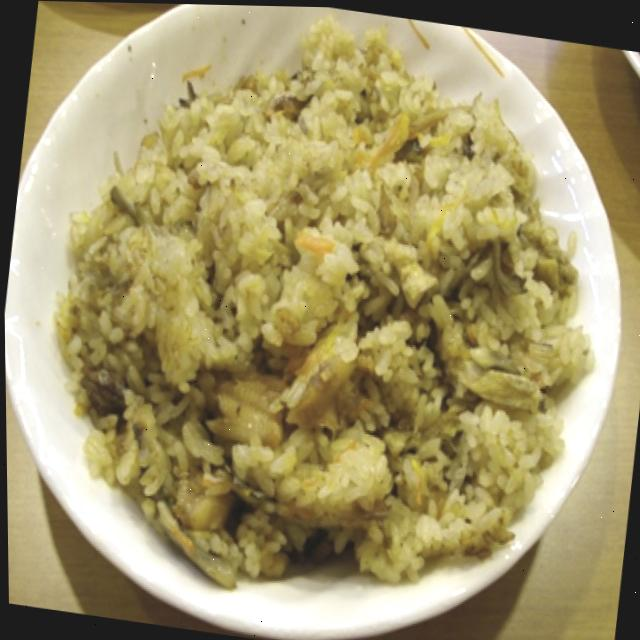米饭主食: (32, 9, 624, 613)
